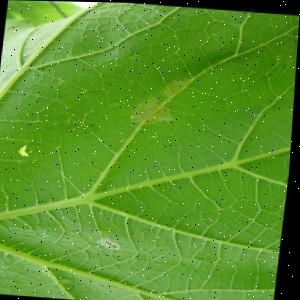Folha: (0, 0, 300, 300)
Fungo: (129, 92, 178, 124), (97, 235, 125, 248), (18, 142, 34, 155)
